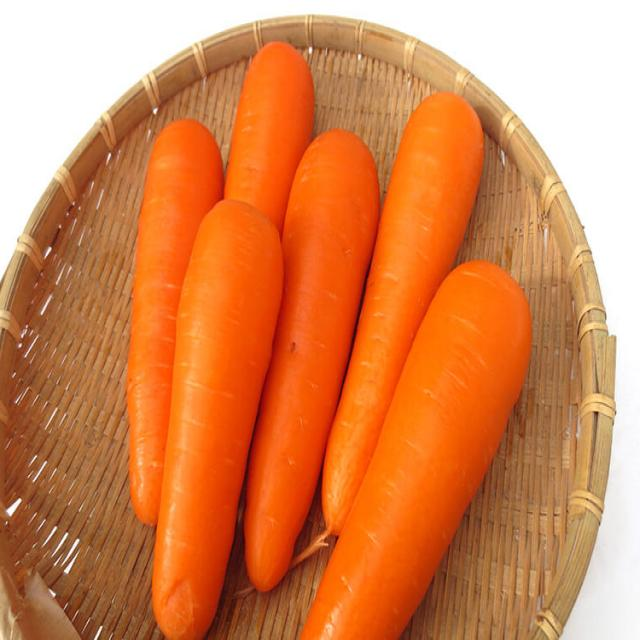Carrot: (291, 256, 545, 640), (295, 71, 485, 547), (125, 203, 294, 638), (233, 115, 378, 594), (198, 15, 320, 554), (132, 106, 222, 530)
